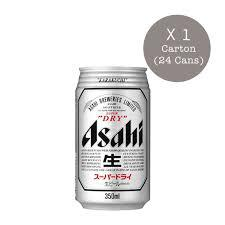beer: (72, 67, 152, 213)
